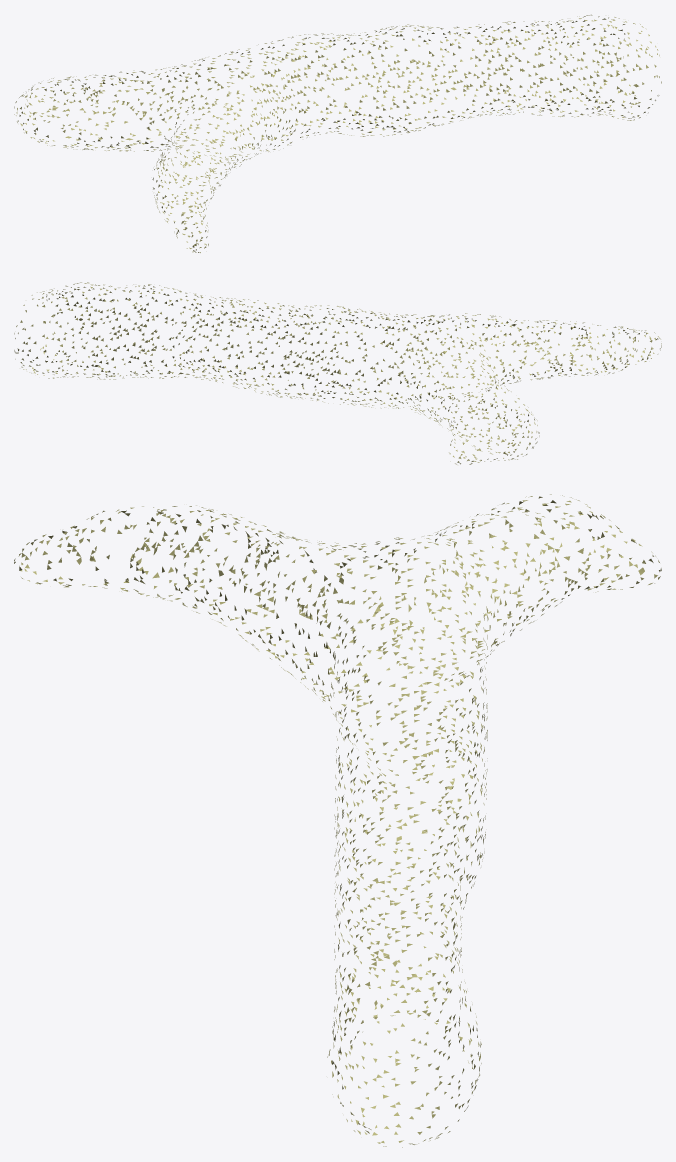
File: morph_009.glb
3 renders of one model, top to bottom at view 1: azimuth 30°, elevation 25°; view 2: azimuth 150°, elevation 25°; view 3: azimuth 270°, elevation 25°, orthographic. The views are drawn at different scales.
Size of the model in its own units: 131 by 32.68 by 75.66.
